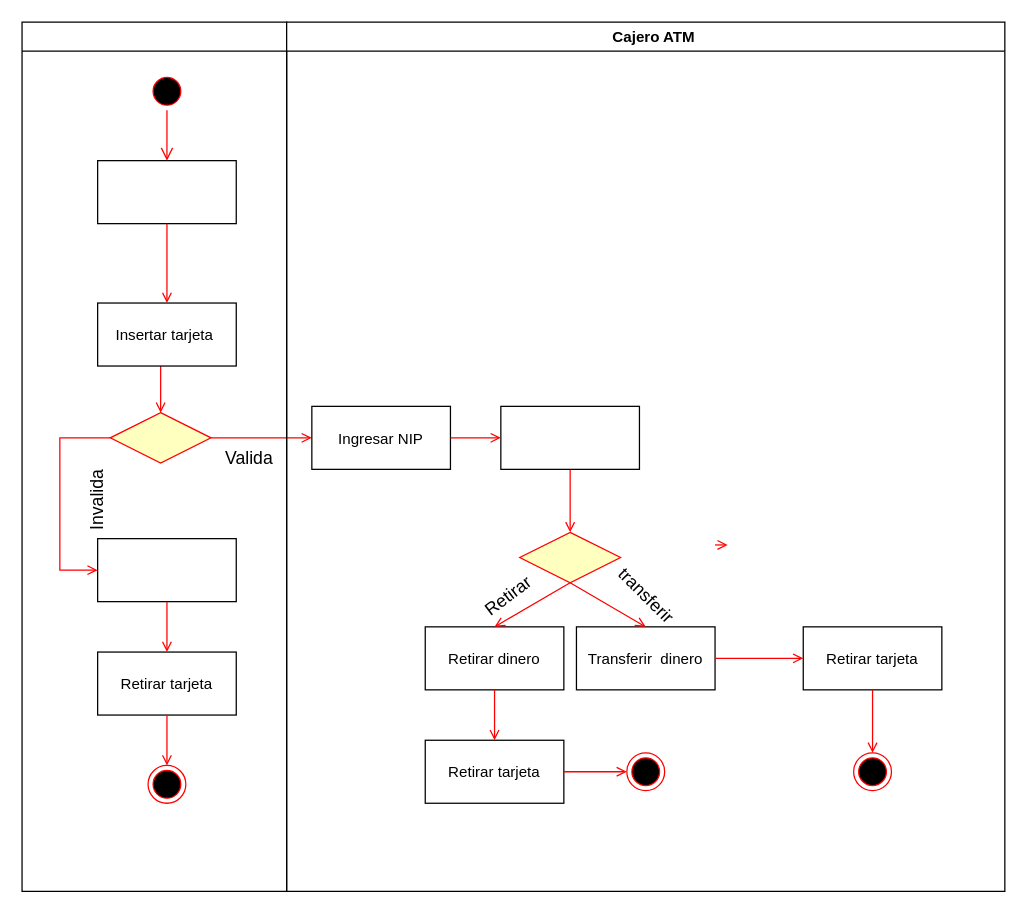
This 1027x914 diagram has some shape labels left out. Each missing label, with the box of its shape:
Consultar saldo: (500, 405, 639, 469)
No realizar ninguna Acción: (96, 537, 236, 602)
Usar cajero: (96, 159, 236, 224)
Usuario: (21, 21, 287, 891)
